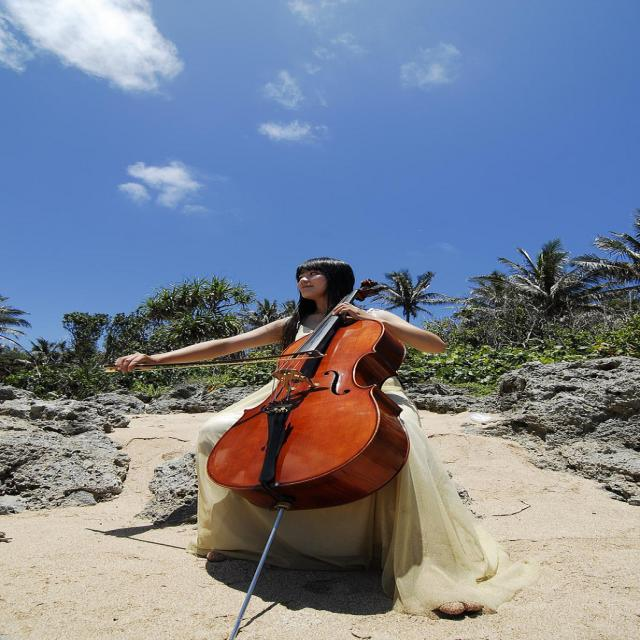cello: (206, 278, 411, 512)
